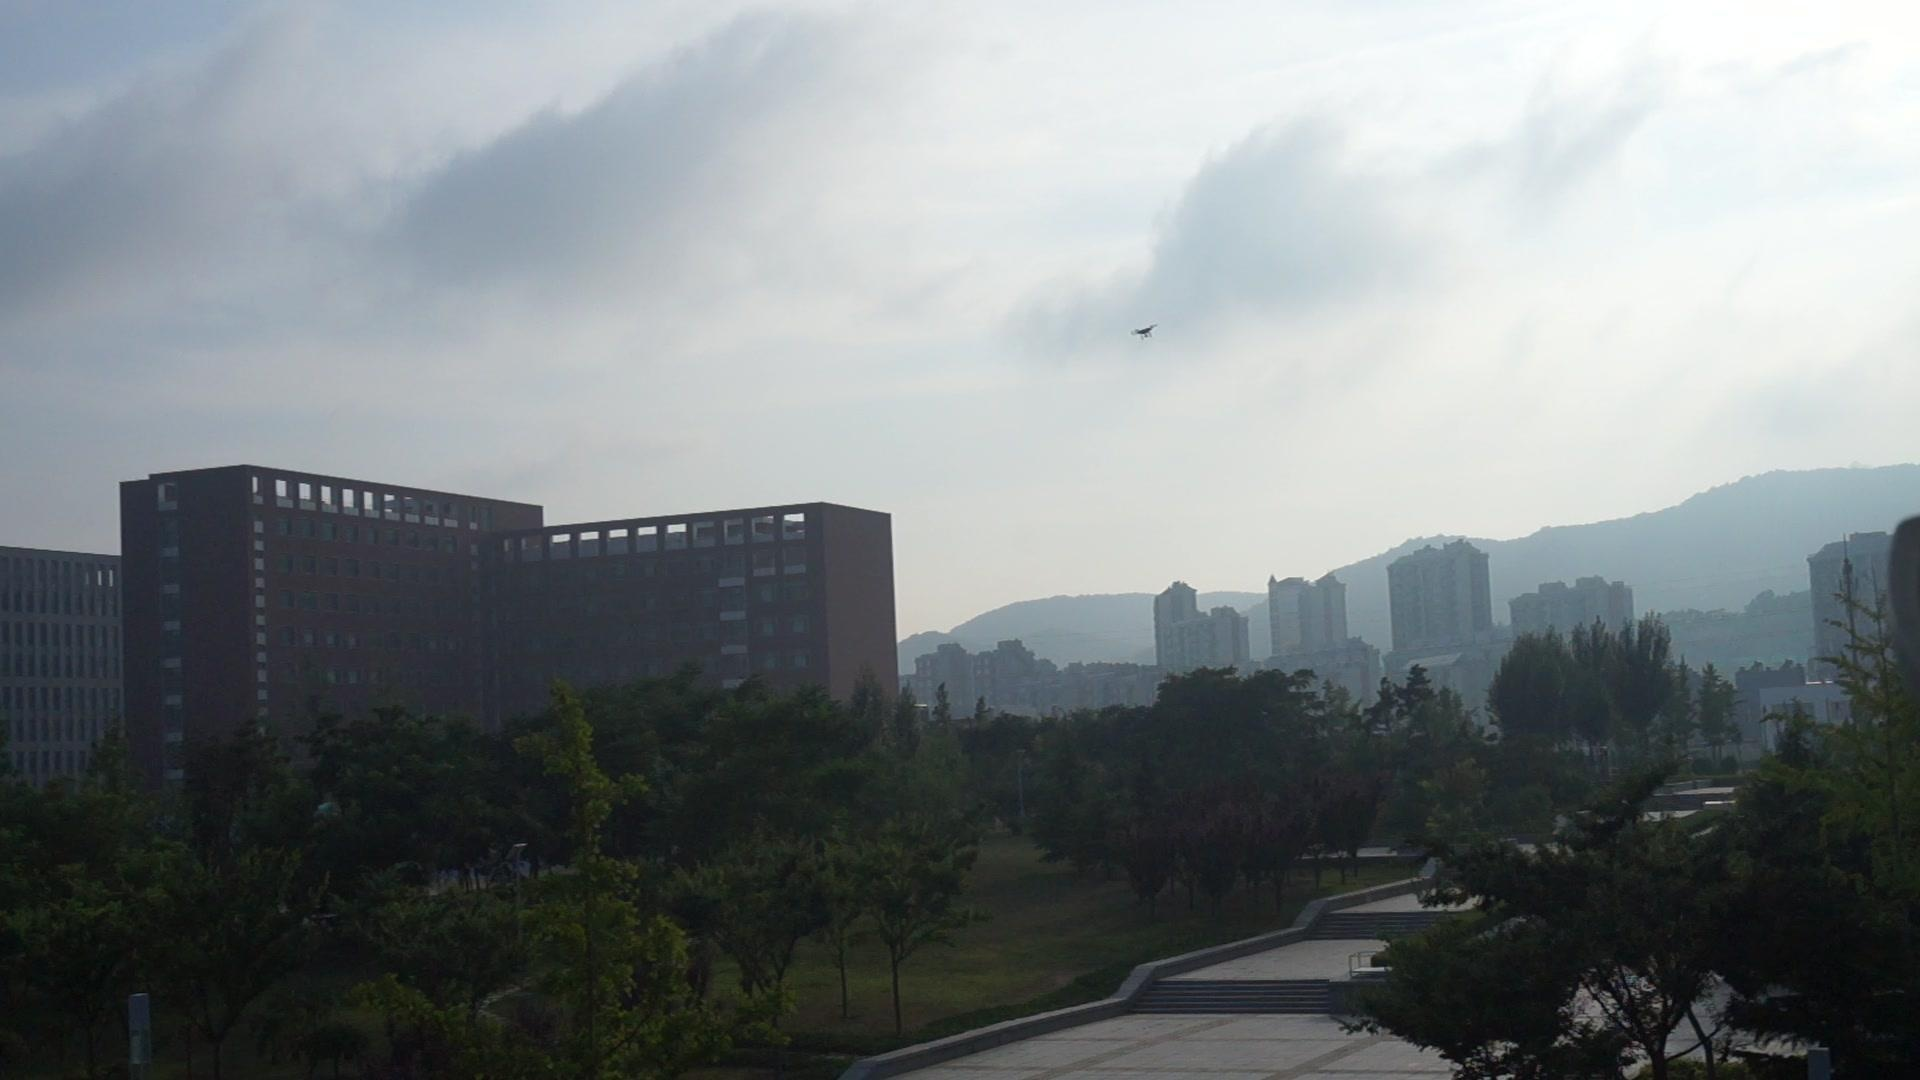UAV: (1131, 324, 1160, 342)
